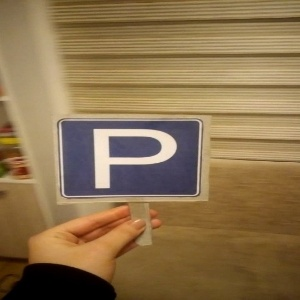park: (60, 117, 203, 198)
